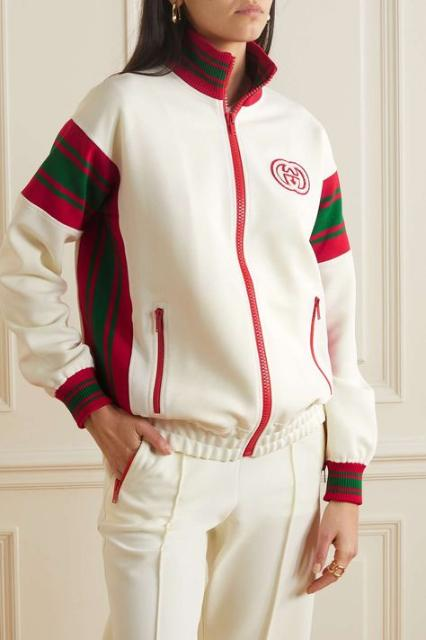Gucci: (266, 156, 316, 197)
